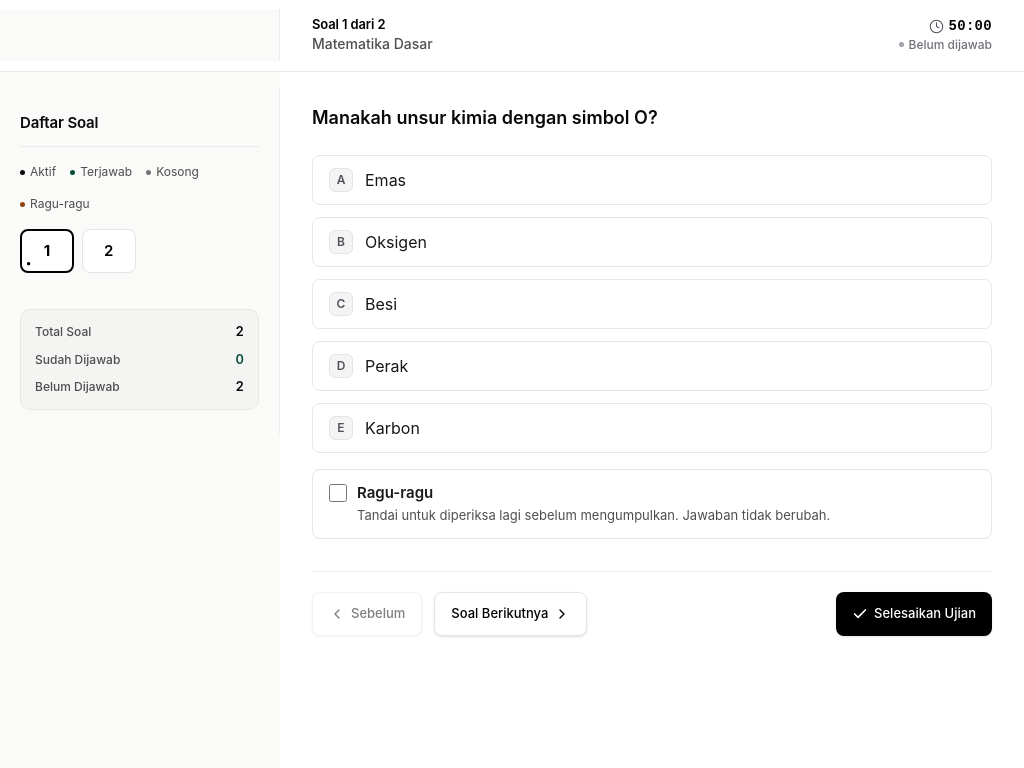
Test case: BU-081 StudentExamWorkstation Test Suite › 7. question order is strictly preserved from server payload
This screenshot has width=1024, height=768.
Expected: the text "Manakah unsur kimia dengan simbol O?" is shown, [312,104,658,130]
# Click "Soal Berikutnya"
Click the button "Soal Berikutnya". click: click(511, 614)
box: [434,592,587,636]
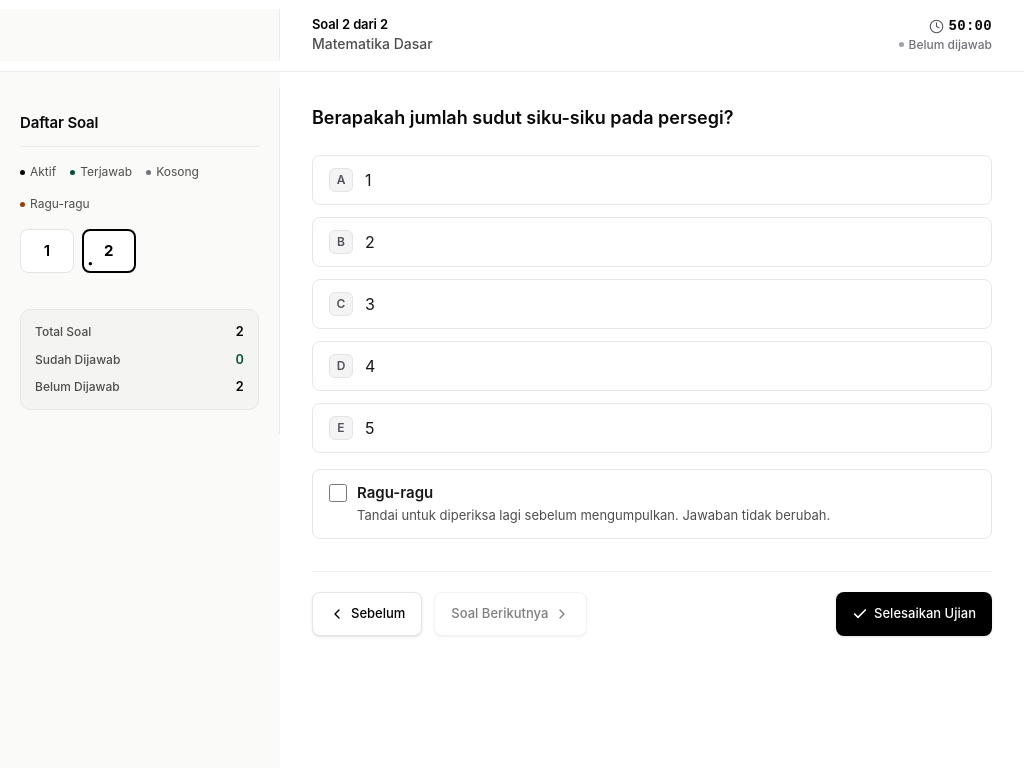
Now the text "Berapakah jumlah sudut siku-siku pada persegi?" is shown, box [312,104,733,130]
